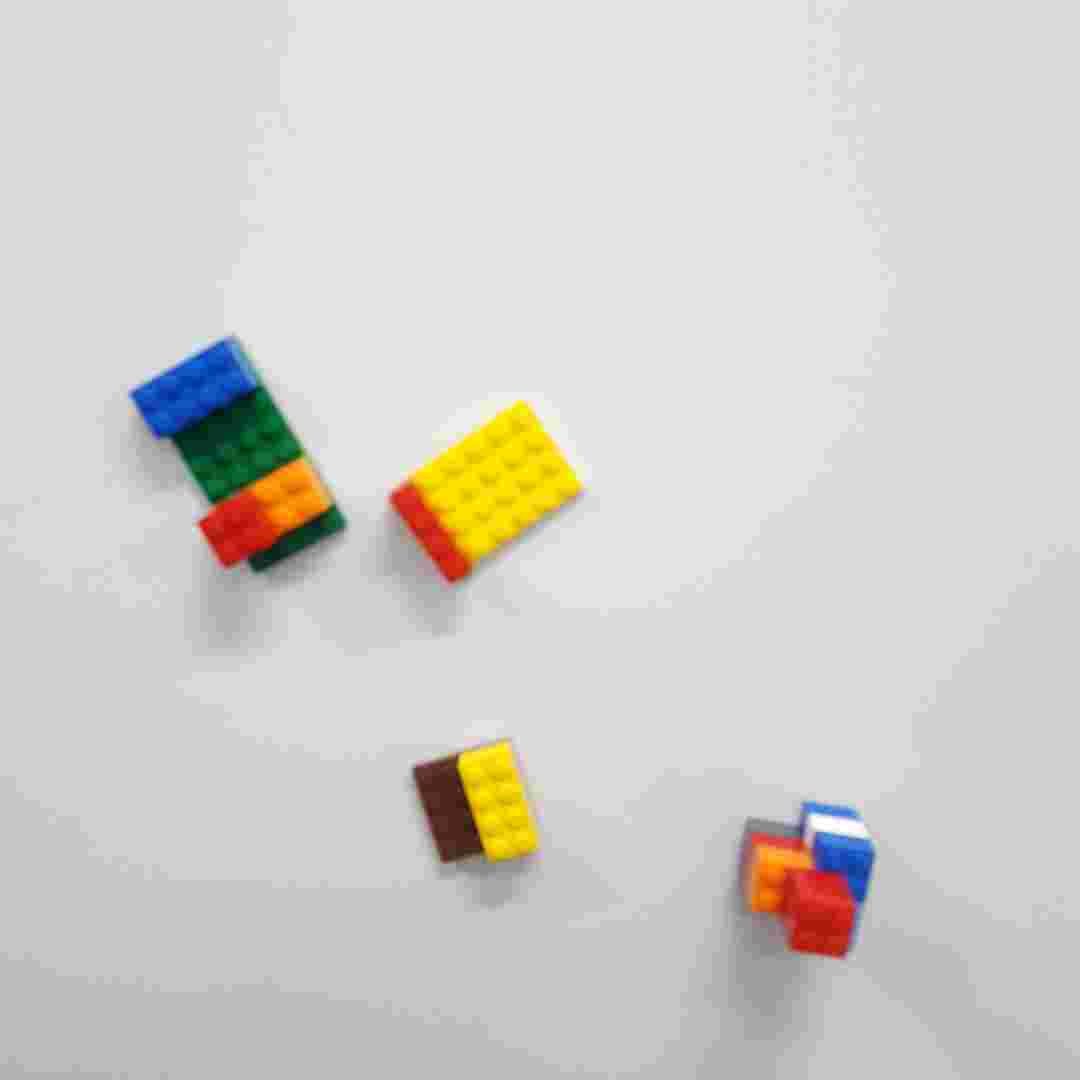LEGO: (124, 335, 339, 577), (382, 396, 593, 593), (736, 797, 877, 968), (413, 735, 545, 873)
